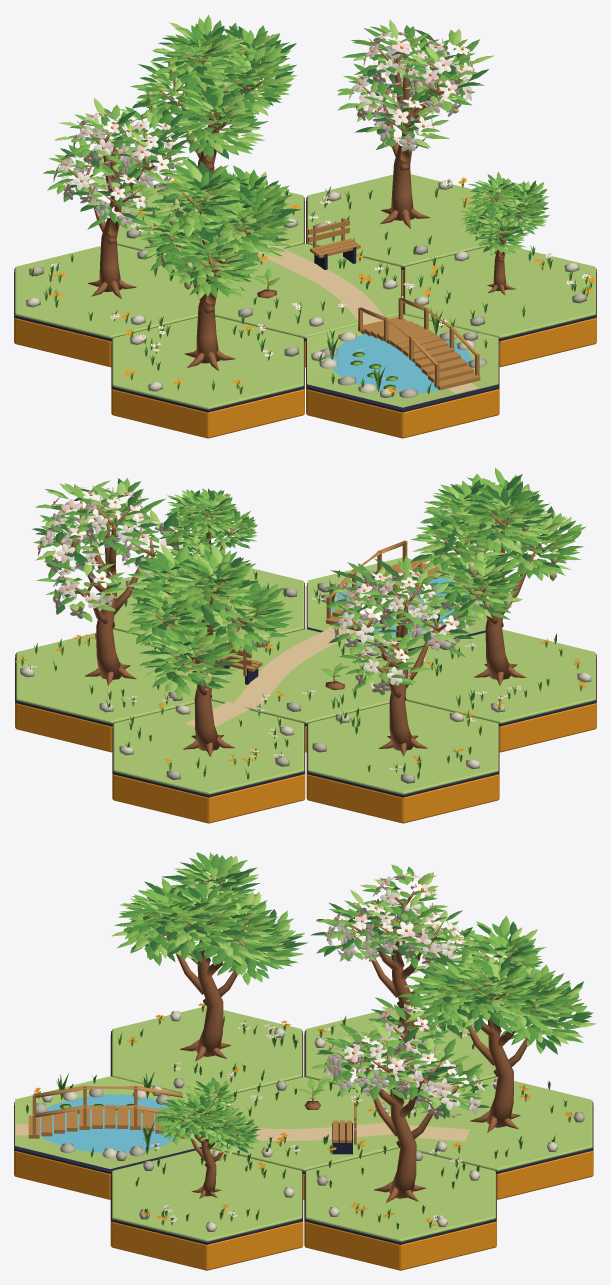
Rendered from seven-hex-world.glb.
3 renders of one model, top to bottom at view 1: azimuth 30°, elevation 25°; view 2: azimuth 150°, elevation 25°; view 3: azimuth 270°, elevation 25°, orthographic.
Parts seen in each view (by area): view 1: Almond_fruiting_geometry, Almond_fruiting_geometry.001, Almond_blossoming_geometry, Almond_blossoming_geometry.001, Tile_grass_cap.003, Tile_grass_cap.002, Tile_grass_cap.004, Tile_grass_cap.001, Pond_banks_water_and_reeds, Tile_grass_cap, Almond_leafy_geometry, Tile_orange_base.003 (+15 smaller); view 2: Almond_fruiting_geometry.001, Almond_fruiting_geometry, Almond_blossoming_geometry, Almond_blossoming_geometry.001, Tile_grass_cap.004, Tile_grass_cap.005, Tile_grass_cap.003, Tile_grass_cap.001, Tile_grass_cap, Tile_orange_base.006, Tile_orange_base.005, Almond_leafy_geometry (+15 smaller); view 3: Almond_fruiting_geometry, Almond_fruiting_geometry.001, Almond_blossoming_geometry, Tile_grass_cap.002, Tile_grass_cap.001, Tile_grass_cap.003, Almond_blossoming_geometry.001, Tile_grass_cap.005, Pond_banks_water_and_reeds, Tile_grass_cap, Almond_leafy_geometry, Tile_orange_base.002 (+16 smaller).
Part boxes in pixels (left/top/right/bottom): Almond_fruiting_geometry: left=134, top=157, right=301, bottom=370; Almond_fruiting_geometry.001: left=130, top=14, right=297, bottom=173; Almond_blossoming_geometry: left=337, top=19, right=494, bottom=228; Almond_blossoming_geometry.001: left=43, top=98, right=194, bottom=298; Tile_grass_cap.003: left=112, top=316, right=303, bottom=409; Tile_grass_cap.002: left=404, top=244, right=595, bottom=338; Tile_grass_cap.004: left=15, top=245, right=206, bottom=338; Tile_grass_cap.001: left=307, top=174, right=497, bottom=267; Pond_banks_water_and_reeds: left=307, top=307, right=498, bottom=407; Tile_grass_cap: left=214, top=243, right=401, bottom=338; Almond_leafy_geometry: left=460, top=172, right=549, bottom=295; Tile_orange_base.003: left=306, top=343, right=499, bottom=438; Almond_fruiting_geometry.001: left=124, top=542, right=293, bottom=756; Almond_fruiting_geometry: left=411, top=467, right=586, bottom=685; Almond_blossoming_geometry: left=32, top=478, right=194, bottom=685; Almond_blossoming_geometry.001: left=324, top=556, right=477, bottom=756; Tile_grass_cap.004: left=307, top=701, right=498, bottom=794; Tile_grass_cap.005: left=113, top=700, right=304, bottom=794; Tile_grass_cap.003: left=405, top=629, right=595, bottom=723; Tile_grass_cap.001: left=16, top=629, right=200, bottom=723; Tile_grass_cap: left=211, top=629, right=391, bottom=723; Tile_orange_base.006: left=112, top=728, right=305, bottom=823; Tile_orange_base.005: left=306, top=728, right=499, bottom=823; Almond_leafy_geometry: left=159, top=488, right=257, bottom=604; Almond_fruiting_geometry: left=111, top=852, right=307, bottom=1061; Almond_fruiting_geometry.001: left=398, top=916, right=595, bottom=1132; Almond_blossoming_geometry: left=311, top=991, right=491, bottom=1202; Tile_grass_cap.002: left=112, top=1148, right=302, bottom=1241; Tile_grass_cap.001: left=305, top=1148, right=495, bottom=1241; Tile_grass_cap.003: left=112, top=1006, right=302, bottom=1099; Almond_blossoming_geometry.001: left=310, top=864, right=481, bottom=1048; Tile_grass_cap.005: left=402, top=1077, right=592, bottom=1171; Pond_banks_water_and_reeds: left=15, top=1071, right=201, bottom=1168; Tile_grass_cap: left=208, top=1077, right=398, bottom=1171; Almond_leafy_geometry: left=154, top=1077, right=260, bottom=1198; Tile_orange_base.002: left=110, top=1176, right=303, bottom=1270.
Size of the model in its own units: 7.47 by 3.32 by 7.82.
